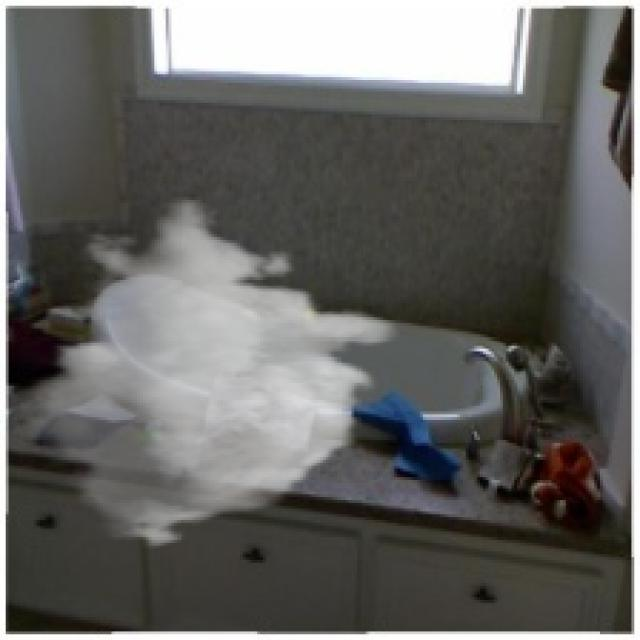Smoke: (8, 197, 400, 552)
